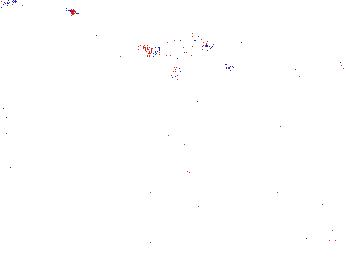X-ray fish: (29, 2, 79, 37)
glassfish: (172, 128, 261, 190)
redtail glassfish: (187, 24, 250, 53), (144, 37, 214, 63), (168, 59, 234, 82)
